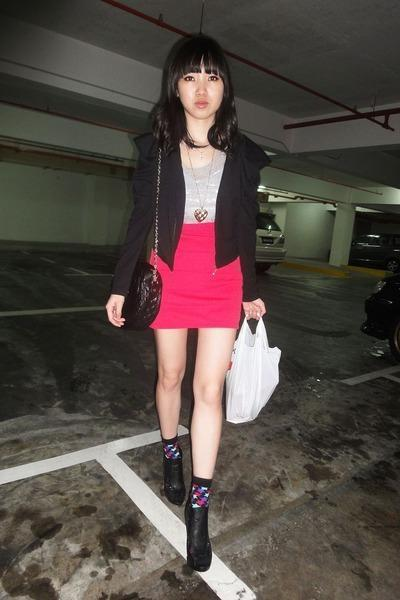bag: (121, 260, 280, 423)
jacket: (101, 132, 270, 299)
shirt: (181, 146, 225, 223)
shoe: (143, 412, 212, 579)
skirt: (150, 218, 254, 340)
